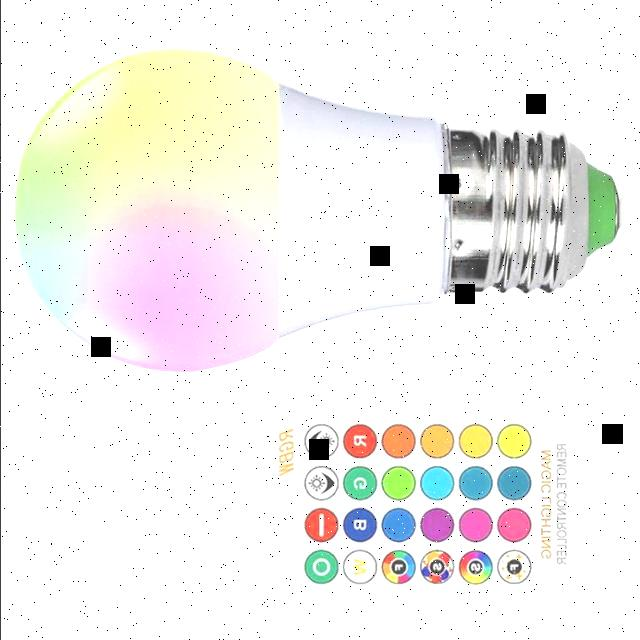light_bulb: (8, 40, 628, 380)
